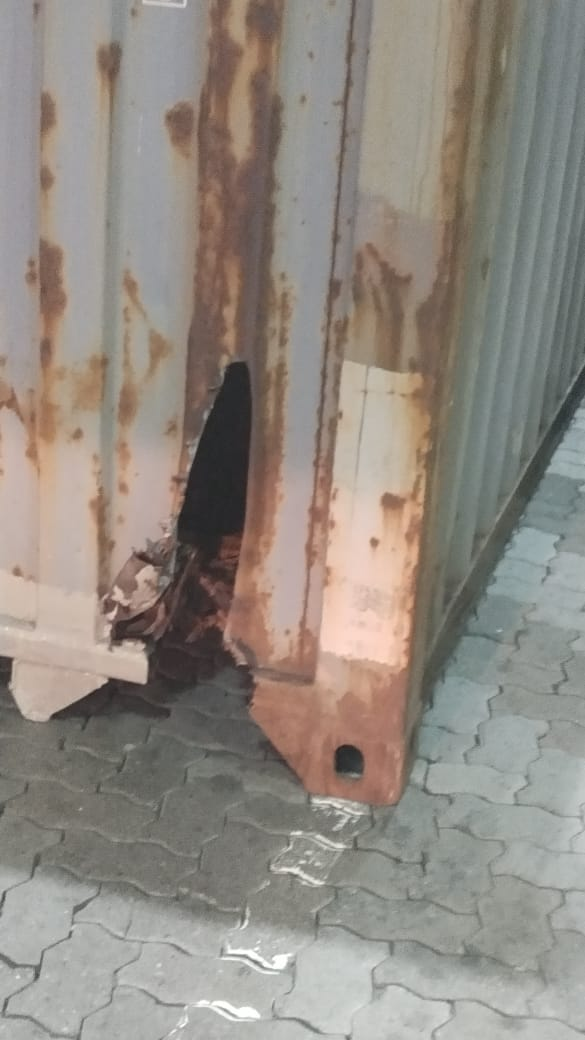cut: (56, 334, 322, 706)
